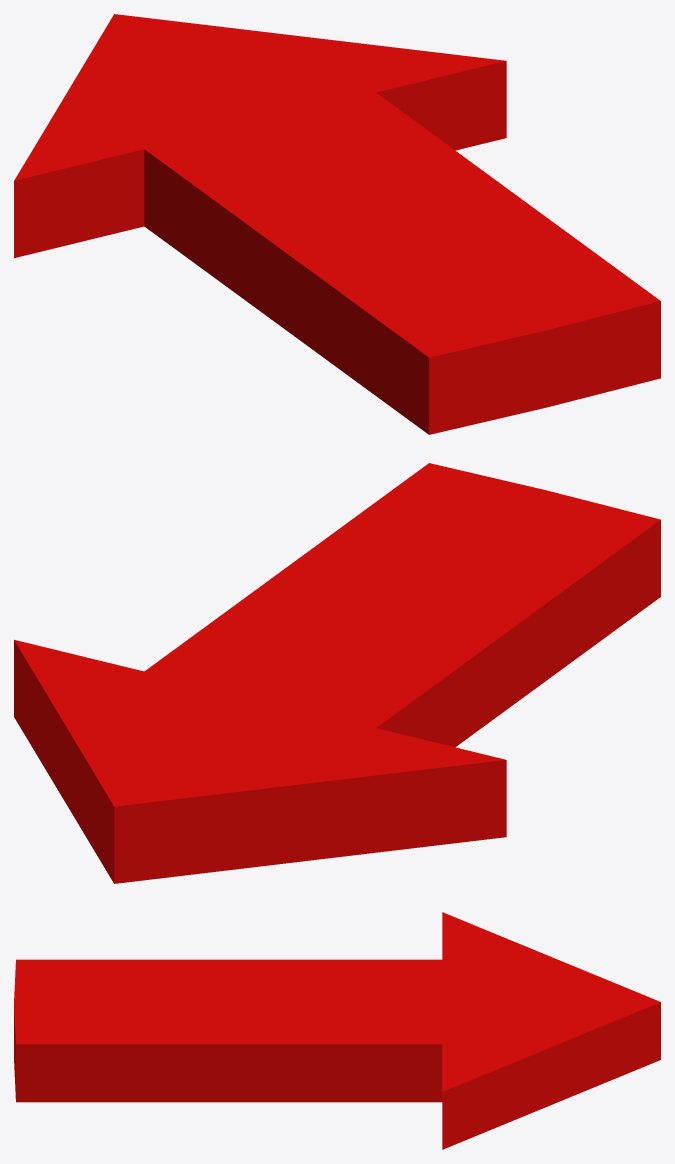
File: arrow.glb
3 views of the same model, one above another, from view 1: azimuth 30°, elevation 25°; view 2: azimuth 150°, elevation 25°; view 3: azimuth 270°, elevation 25° (orthographic). The views are drawn at different scales.
Visible parts, largest first — view 1: Arrow; view 2: Arrow; view 3: Arrow.
Part boxes in pixels (bbox=[...]): Arrow: bbox=[14, 14, 660, 434]; Arrow: bbox=[14, 463, 660, 883]; Arrow: bbox=[14, 912, 660, 1149].
Bounding box in the file's own units: 2 × 0.3 × 3.04.
